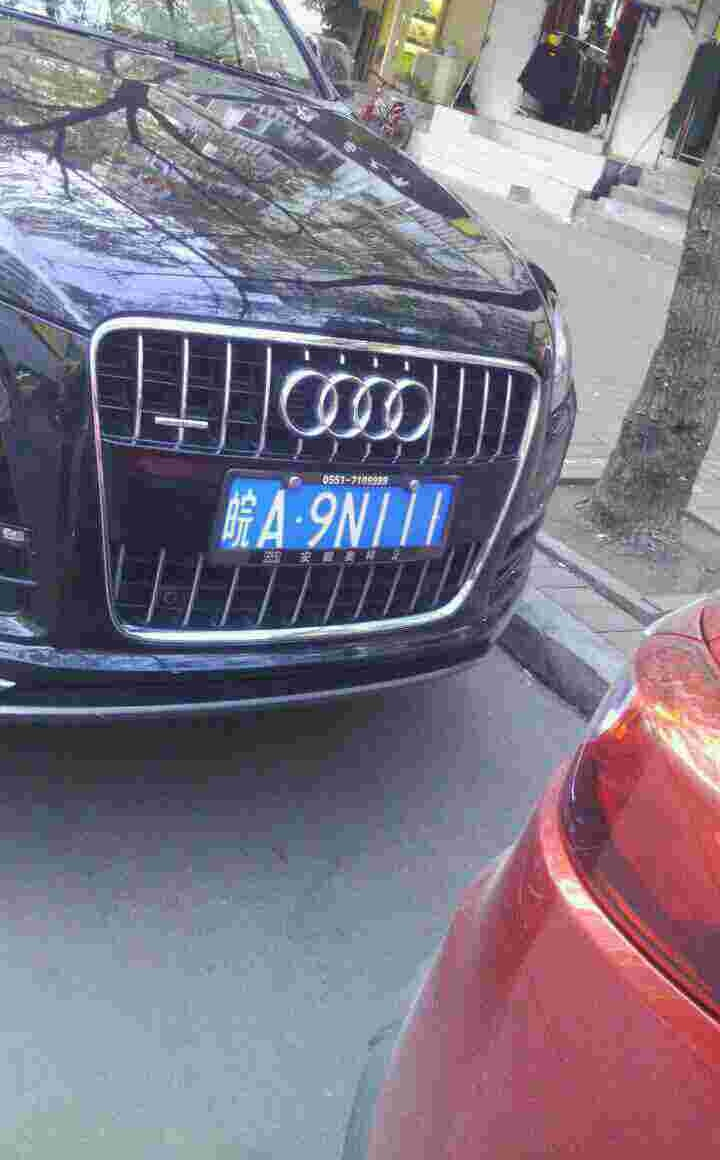license_plate: (223, 474, 452, 559)
